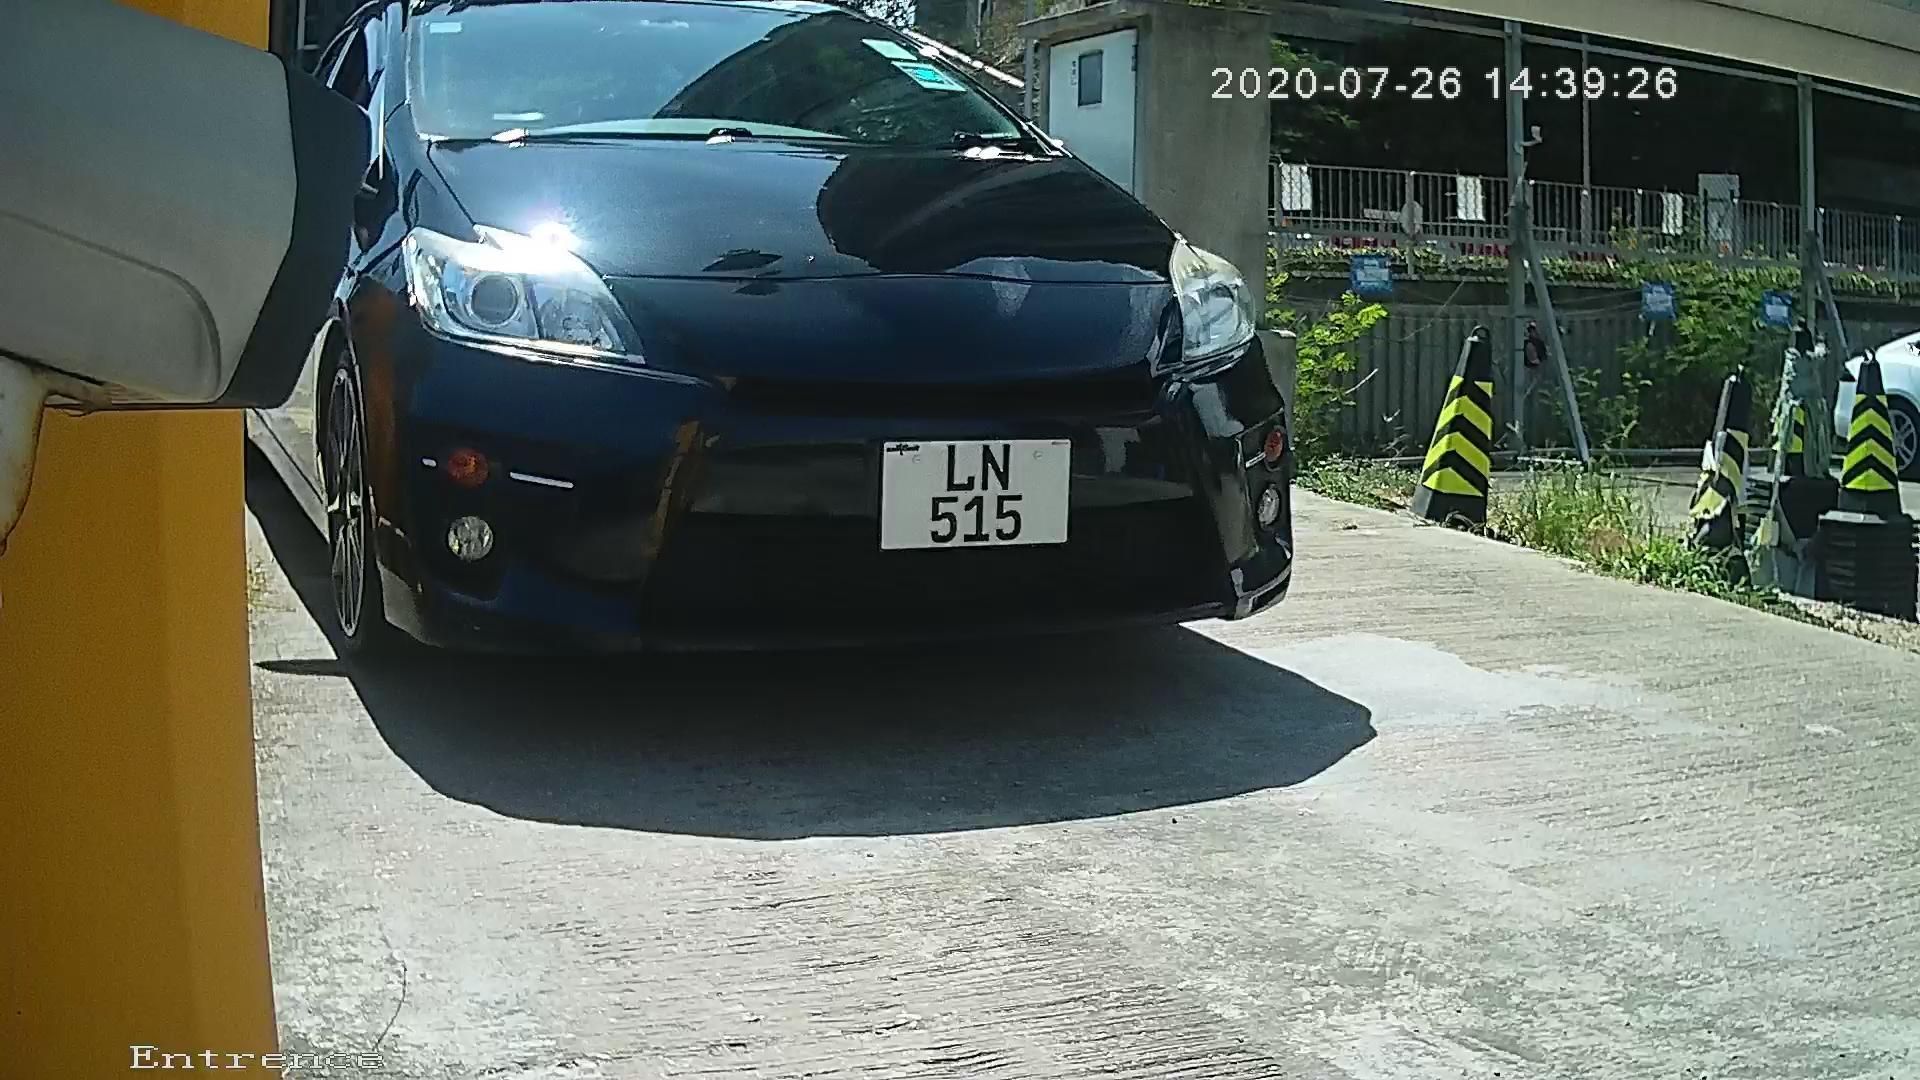privatecar: (258, 1, 1346, 742)
